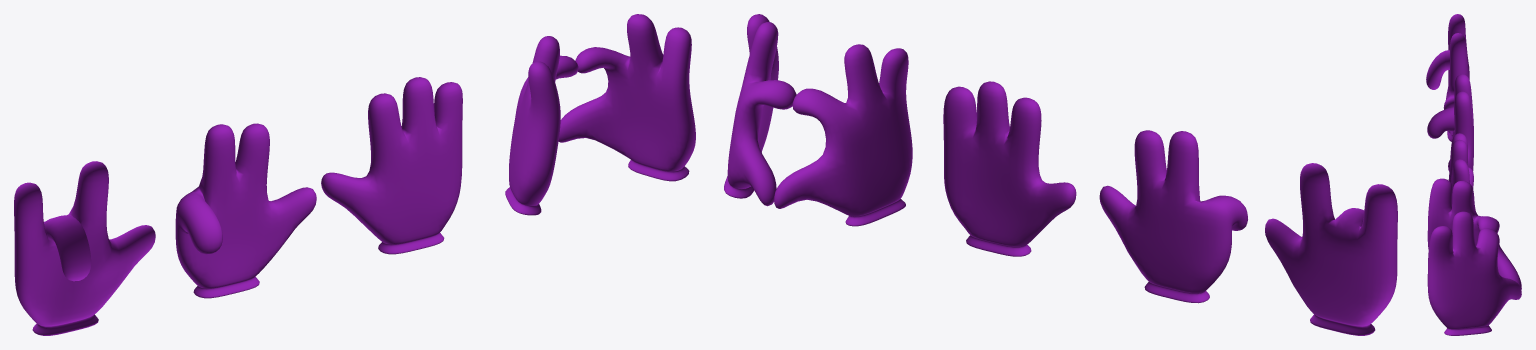
The model's file is hands.obj.
The picture shows the model from 3 angles, left to right: view 1: azimuth 30°, elevation 25°; view 2: azimuth 150°, elevation 25°; view 3: azimuth 270°, elevation 25°; orthographic projection. The views are drawn at different scales.
Visible parts, largest first — view 1: Plane001, Plane003, Plane004, Plane002, Plane3; view 2: Plane001, Plane3, Plane003, Plane004, Plane002; view 3: Plane002, Plane3, Plane004, Plane003, Plane001.
Part boxes in pixels (x1=…): Plane001: x1=321, y1=77, x2=462, y2=254; Plane003: x1=175, y1=123, x2=316, y2=298; Plane004: x1=14, y1=161, x2=155, y2=335; Plane002: x1=558, y1=14, x2=695, y2=181; Plane3: x1=505, y1=36, x2=578, y2=215; Plane001: x1=943, y1=81, x2=1076, y2=256; Plane3: x1=774, y1=44, x2=912, y2=226; Plane003: x1=1099, y1=130, x2=1247, y2=303; Plane004: x1=1265, y1=163, x2=1397, y2=335; Plane002: x1=724, y1=14, x2=796, y2=206; Plane002: x1=1427, y1=211, x2=1521, y2=335; Plane3: x1=1427, y1=178, x2=1521, y2=289; Plane004: x1=1426, y1=14, x2=1469, y2=141; Plane003: x1=1427, y1=74, x2=1473, y2=171; Plane001: x1=1448, y1=133, x2=1473, y2=188.
Bounding box in the file's own units: 708 × 174 × 127.
